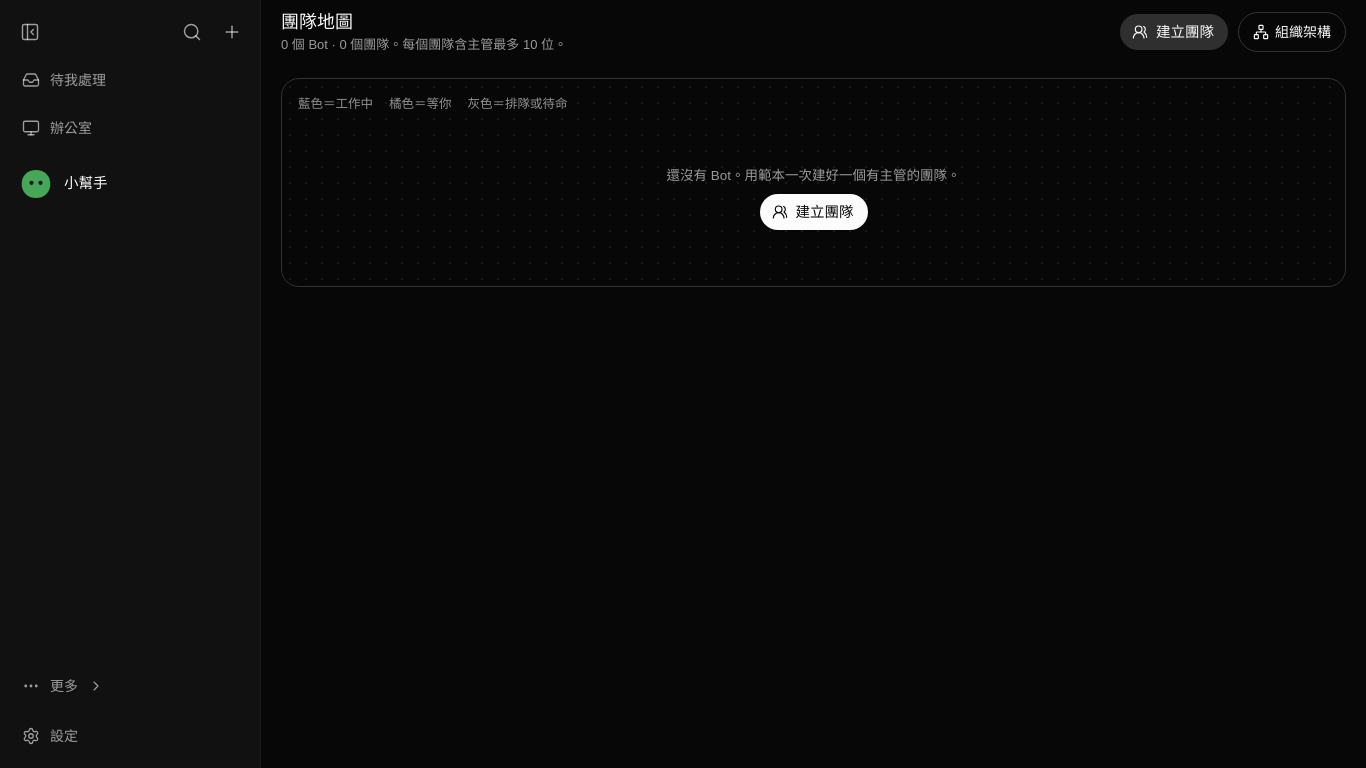
Test: 建立團隊（F02/F03） › 超過 50 個 Bot 時不能建立
The image size is (1366, 768).
Click the button "建立團隊" next to "組織架構" at (1174, 32), box [1120, 14, 1228, 50]
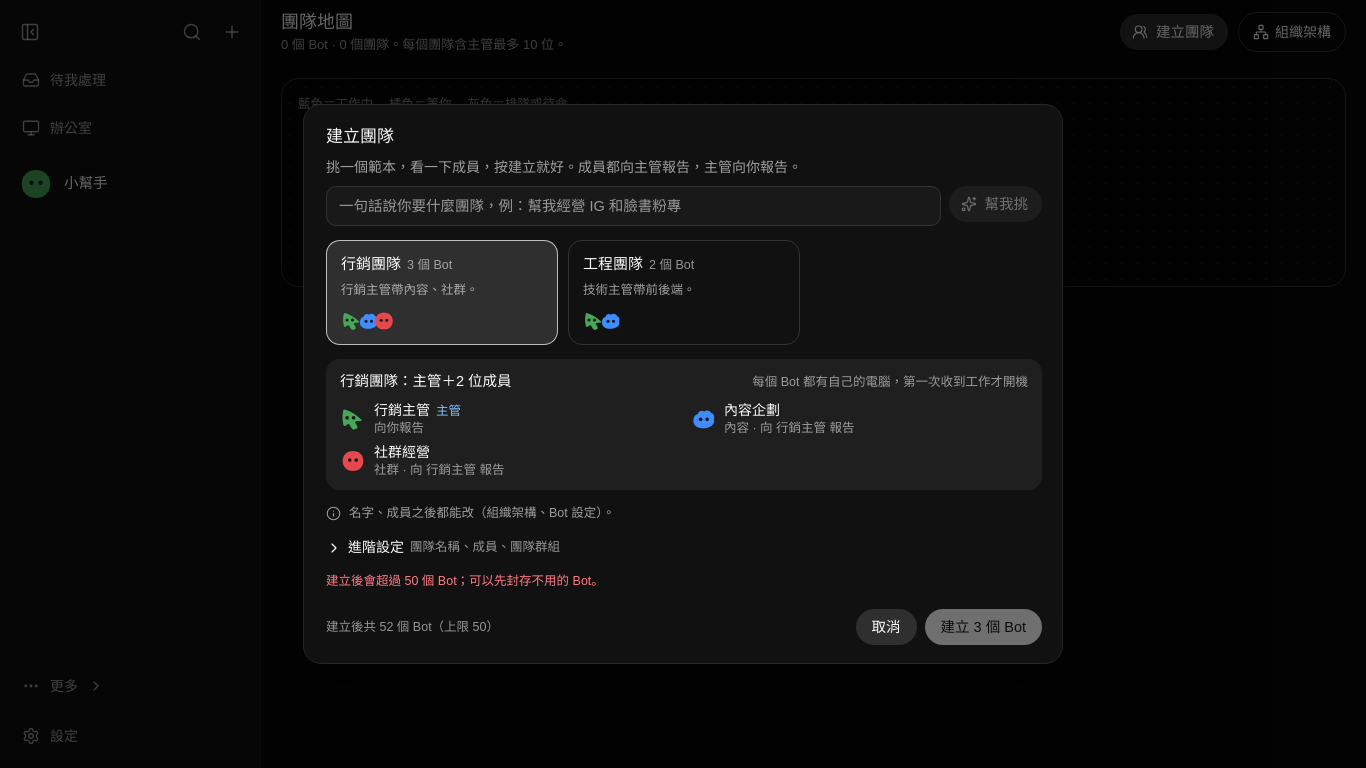
Now the button "建立 3 個 Bot" is disabled, box [925, 609, 1042, 645]
Now the text "建立後會超過 50 個 Bot；可以先封存不用的 Bot。" is shown, box [326, 574, 604, 588]
